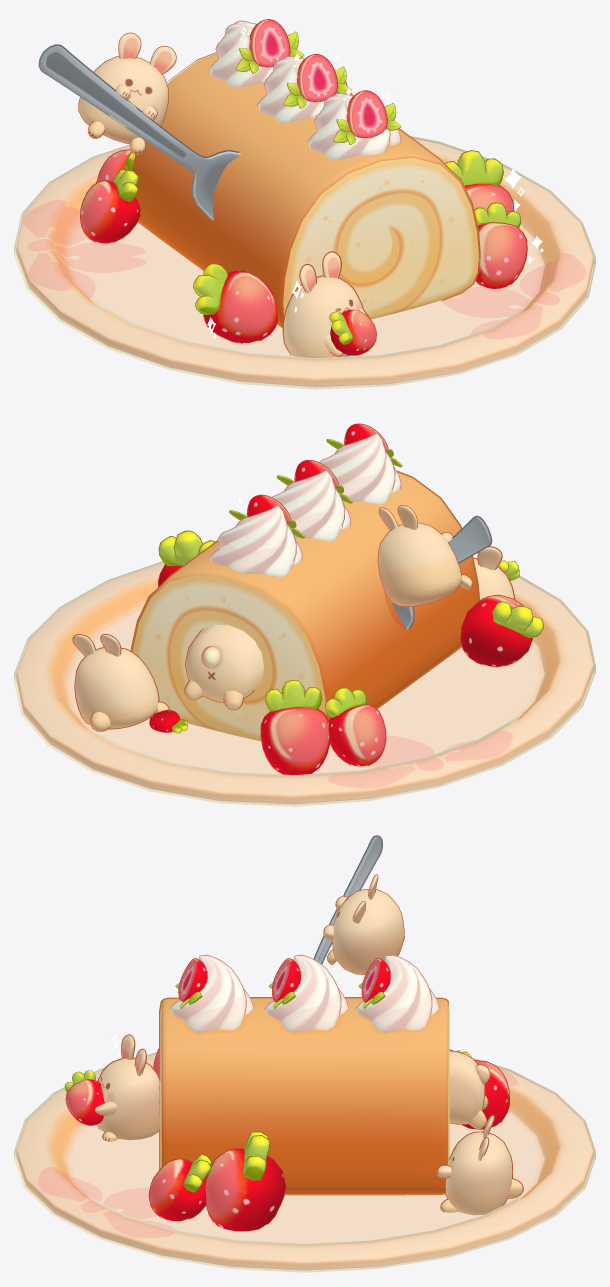
File: cake_roll.glb
The picture shows the model from 3 angles, top to bottom: view 1: azimuth 30°, elevation 25°; view 2: azimuth 150°, elevation 25°; view 3: azimuth 270°, elevation 25°; orthographic projection. The views are drawn at different scales.
Parts seen in each view (by area): view 1: Plate, Roll_cake, Spoon, Bony.012, Bony.010, Berry.013, Berry, Berry.014, Meringue, Berry.001, Meringue.001, Meringue.002 (+5 smaller); view 2: Plate, Roll_cake, Bony.006, Bony.012, Berry.015, Bony.011, Berry.013, Meringue.002, Berry.014, Meringue, Meringue.001, Spoon (+6 smaller); view 3: Plate, Roll_cake, Berry.001, Bony.006, Bony.012, Bony.010, Meringue.002, Meringue.001, Meringue, Berry, Bony.011, Berry.012 (+5 smaller).
Boxes of the visible parts, x1,y1,x2,y2 form: Plate: (14, 136, 595, 389); Roll_cake: (131, 52, 480, 327); Spoon: (38, 44, 240, 222); Bony.012: (78, 32, 176, 154); Bony.010: (282, 251, 370, 357); Berry.013: (193, 263, 278, 343); Berry: (474, 202, 527, 288); Berry.014: (80, 169, 140, 244); Meringue: (307, 93, 401, 159); Berry.001: (445, 150, 514, 213); Meringue.001: (257, 56, 346, 122); Meringue.002: (208, 20, 273, 87); Plate: (14, 561, 595, 806); Roll_cake: (130, 470, 479, 741); Bony.006: (72, 633, 169, 731); Bony.012: (377, 505, 472, 606); Berry.015: (260, 680, 330, 774); Bony.011: (184, 624, 263, 710); Berry.013: (460, 594, 543, 667); Meringue.002: (208, 505, 302, 576); Berry.014: (324, 687, 386, 766); Meringue: (319, 433, 401, 504); Meringue.001: (272, 469, 350, 541); Spoon: (392, 515, 492, 629); Plate: (14, 1052, 595, 1272); Roll_cake: (159, 997, 449, 1195); Berry.001: (205, 1131, 286, 1231); Bony.006: (436, 1115, 523, 1215); Bony.012: (323, 874, 404, 974); Bony.010: (95, 1034, 160, 1141); Meringue.002: (355, 954, 439, 1032); Meringue.001: (264, 954, 348, 1032); Meringue: (169, 954, 253, 1033); Berry: (148, 1154, 212, 1221); Bony.011: (449, 1050, 490, 1129); Berry.012: (64, 1070, 104, 1125).
Size of the model in its own units: 2.81 by 1.48 by 3.05.
3 materials, 3 textured.
